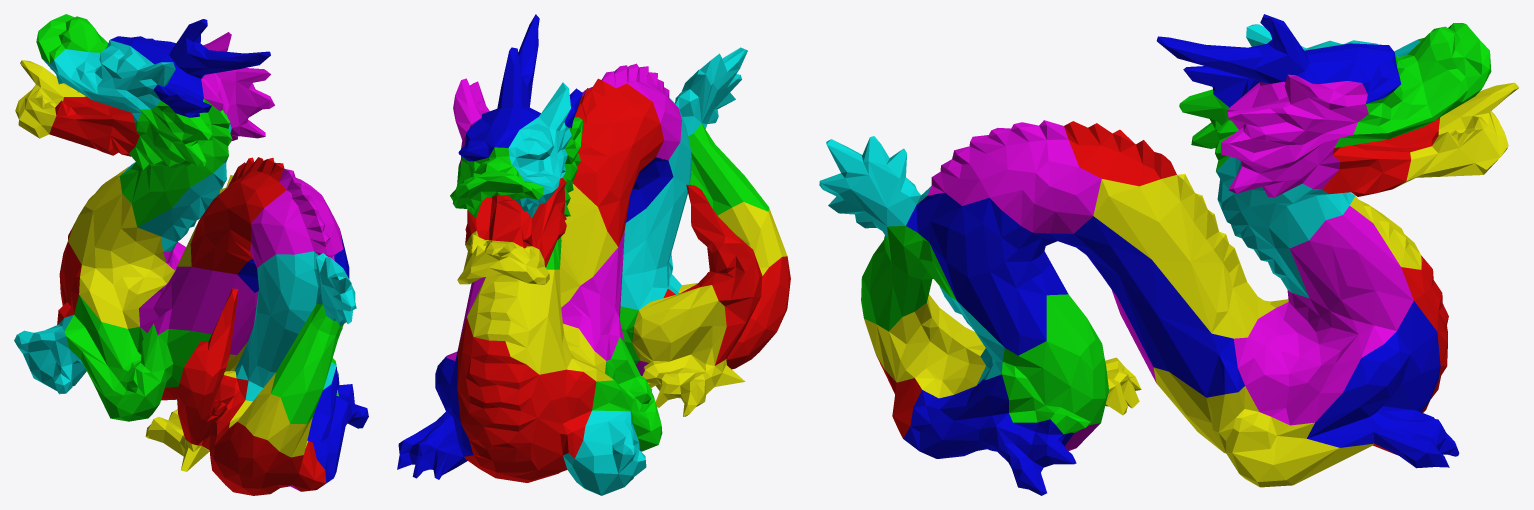
File: Dragon_8K_1.fbx
3 views of the same model, side by side, from view 1: azimuth 30°, elevation 25°; view 2: azimuth 150°, elevation 25°; view 3: azimuth 270°, elevation 25° (orthographic). The views are drawn at different scales.
Bounding box in the file's own units: 0.4486 × 0.704 × 0.9992.
